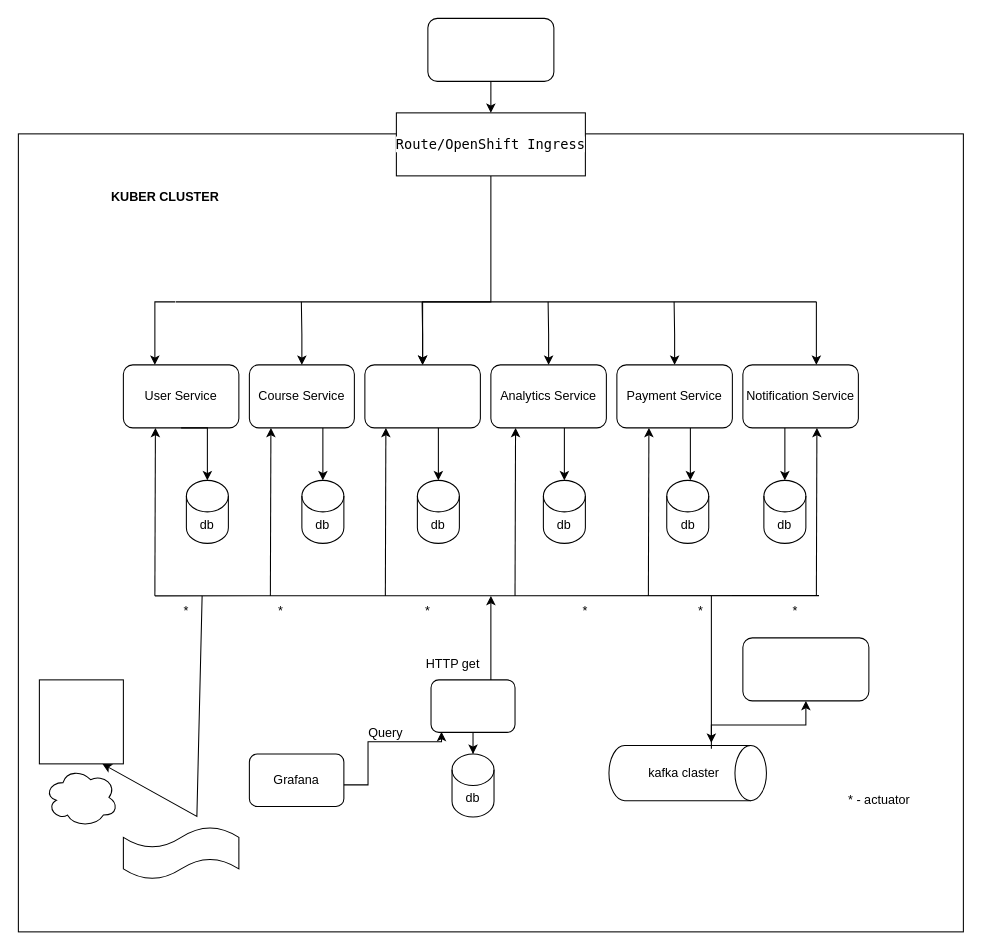
Image size: 982x950. Some labels were removed from this diagram. The centre of each missing label's shape, as x and y in pixels:
"Client with TOKEN" goes at (490,49).
"elasticsearch cluster" goes at (80,721).
"Enrollment Service" goes at (422,396).
"kibana" goes at (81,797).
"Logstash" goes at (180,852).
"Payment Consumer" goes at (805,669).
"Prometheus" goes at (472,705).
